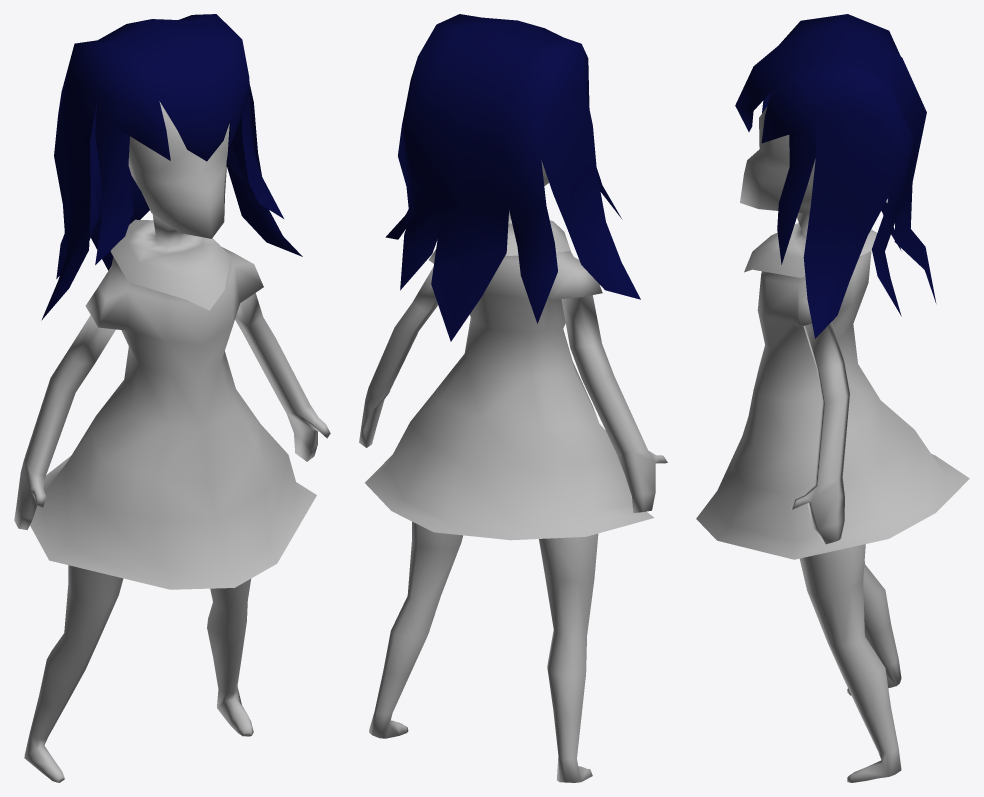
File: pacifica.dae
3 views of the same model, side by side, from view 1: azimuth 30°, elevation 25°; view 2: azimuth 150°, elevation 25°; view 3: azimuth 270°, elevation 25° (orthographic). The views are drawn at different scales.
Visible parts, largest first — view 1: Cube, Cube.001; view 2: Cube, Cube.001; view 3: Cube, Cube.001.
Part boxes in pixels (box(x1,y1,x2,y2)): Cube: box(14, 101, 330, 782); Cube.001: box(41, 14, 302, 320); Cube: box(359, 160, 667, 782); Cube.001: box(385, 14, 640, 341); Cube: box(696, 107, 969, 782); Cube.001: box(735, 14, 936, 338).
Size of the model in its own units: 3.04 by 2.56 by 7.25.
